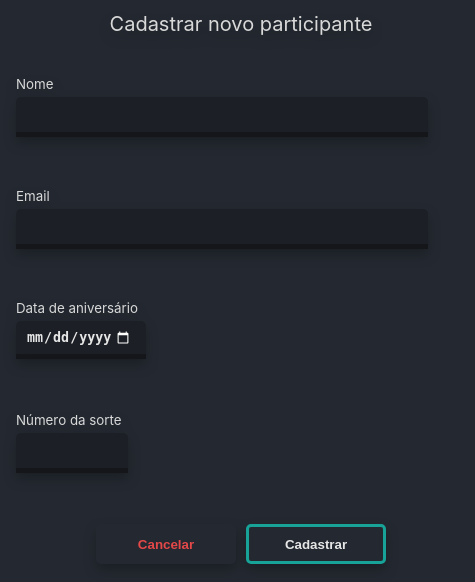
Testes › Testando campo de nome › Campo vazio deve ser inválido
The image size is (475, 582).
Step 1. Click the button with class "registerButton" → (316, 544), box [246,524,386,564]
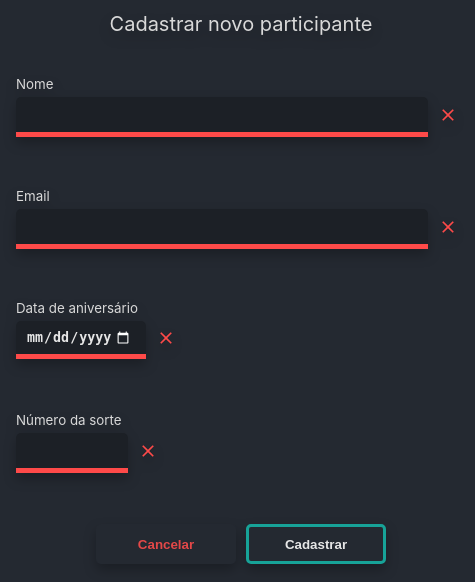
Result: the 1st icon is shown at [438,105,458,125]
